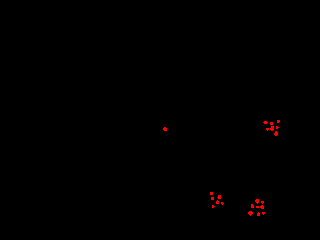Target: (248, 211, 253, 216), (270, 126, 274, 131), (274, 131, 278, 136), (255, 199, 259, 204), (163, 127, 167, 131), (217, 195, 221, 199), (260, 205, 264, 209), (263, 121, 268, 124), (216, 200, 219, 204), (251, 204, 254, 208), (257, 212, 260, 216), (277, 120, 280, 123), (270, 122, 273, 125), (276, 126, 279, 129), (266, 128, 269, 131), (210, 192, 213, 195), (211, 197, 214, 200), (261, 201, 264, 204), (221, 202, 224, 205), (212, 205, 215, 208), (262, 212, 265, 215), (256, 206, 259, 208)
